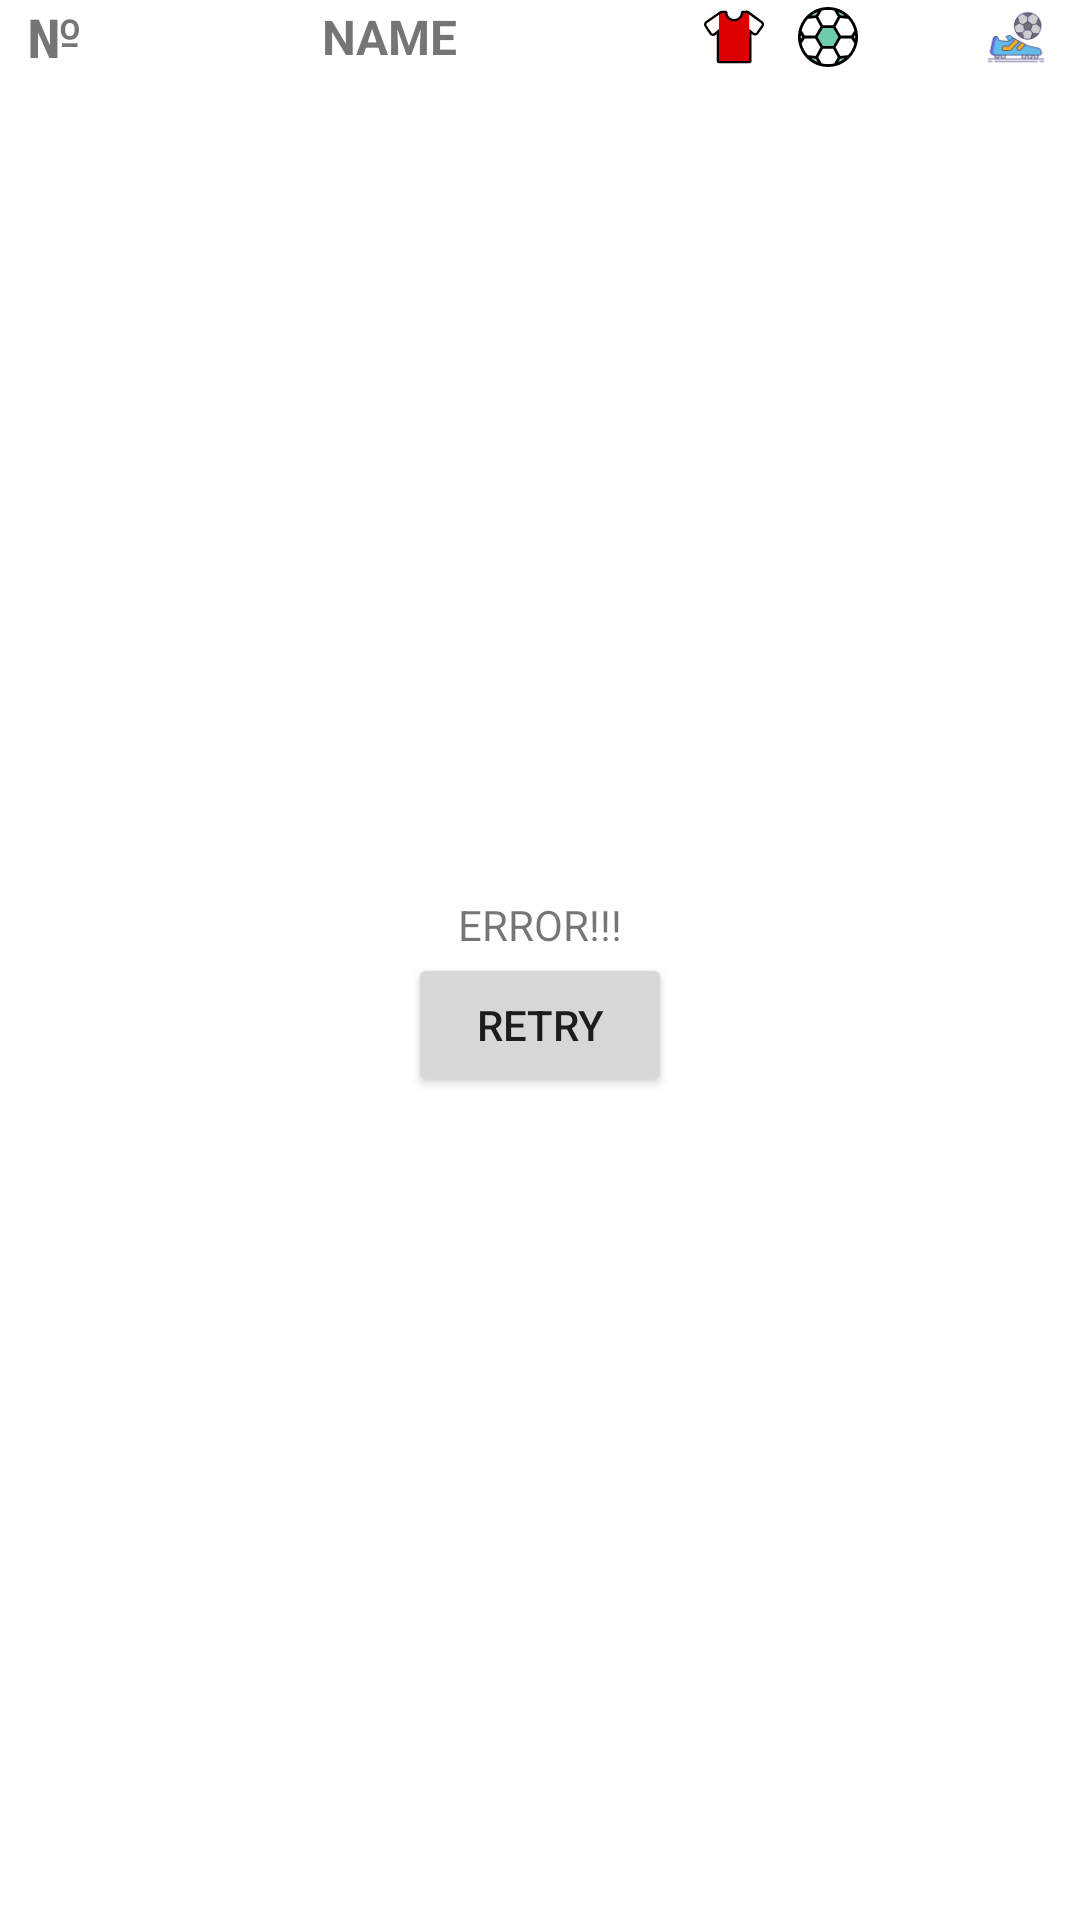

Icon bounding boxes for this 1080px x 1920px phone screenshot, format region(x1, y1, x2, y2):
boot: region(988, 12, 1044, 63)
football: region(798, 7, 858, 67)
shirt: region(704, 10, 764, 64)
